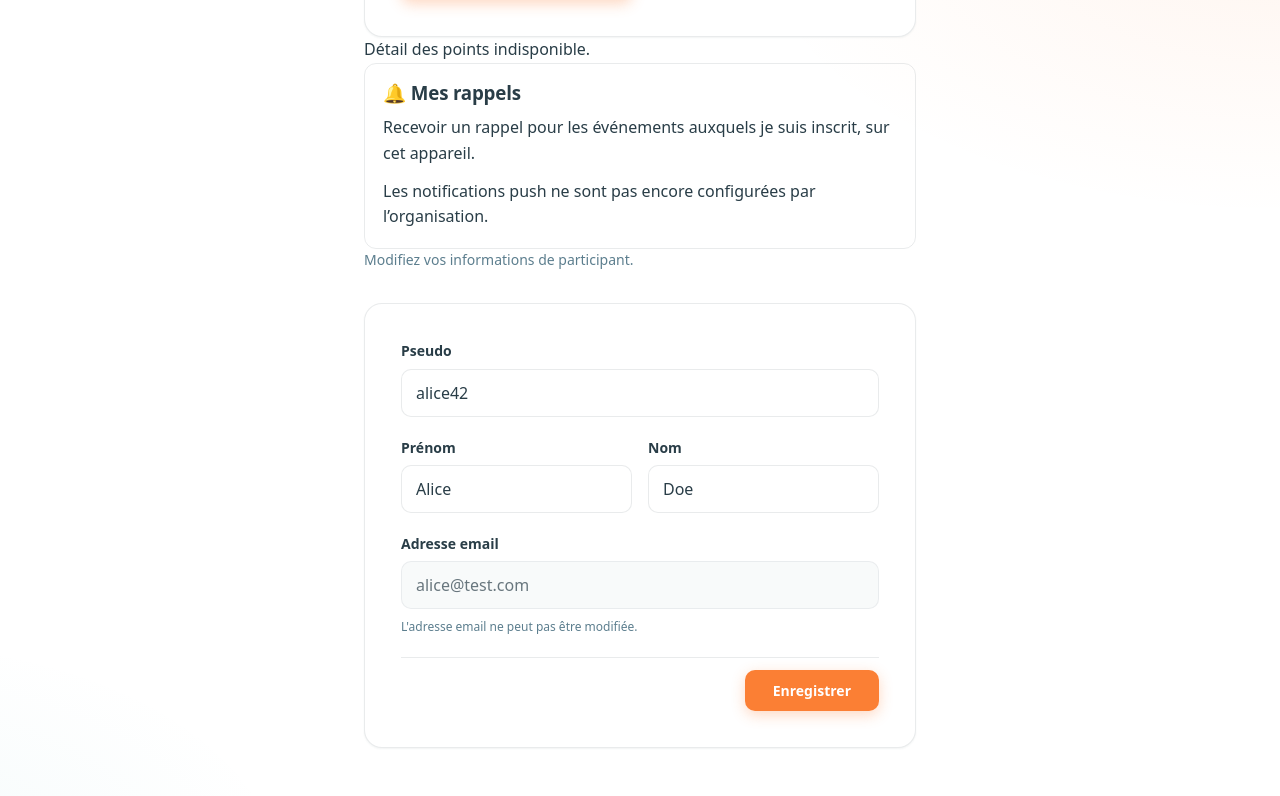
ProfilePage › shows success message after save
(page scrolled)
Click the button "Enregistrer" at (812, 690), box [745,670,879,711]
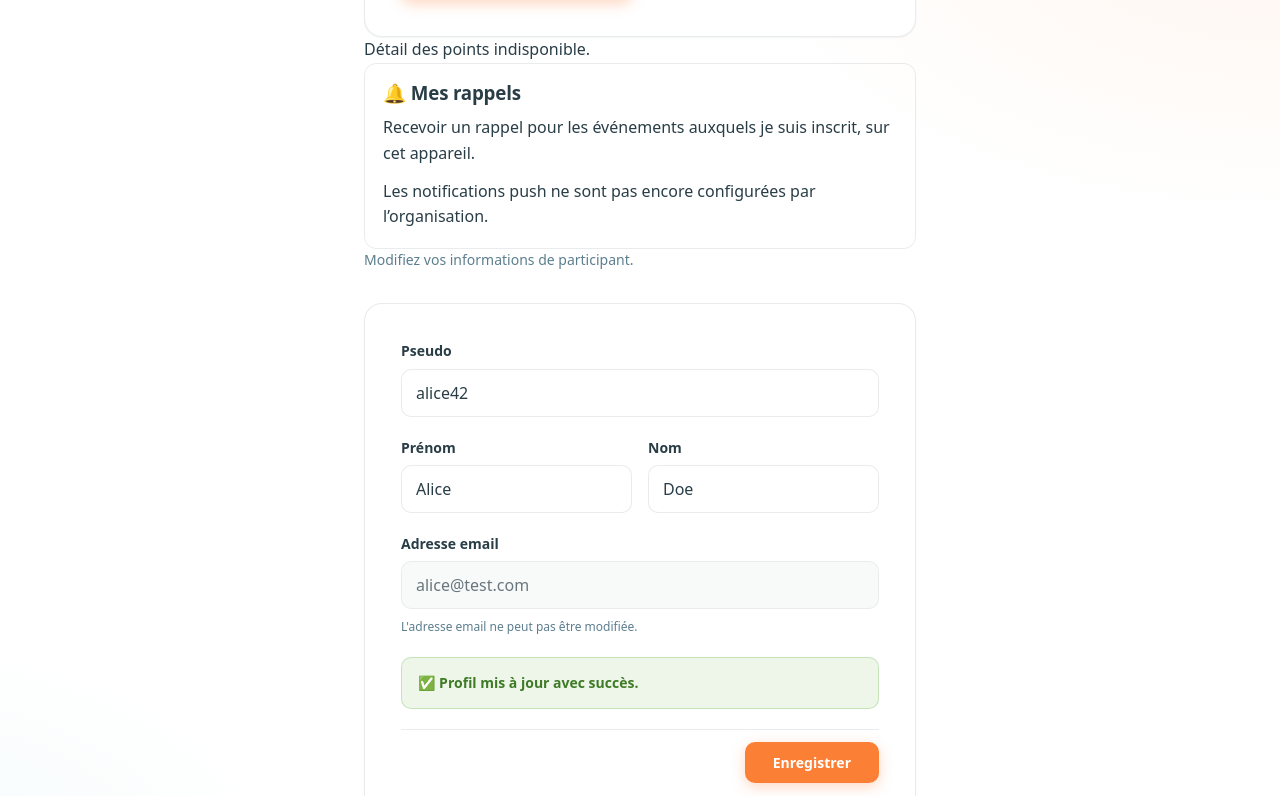
Result: the message "✅ Profil mis à jour avec succès." is shown at [401,657,879,709]
